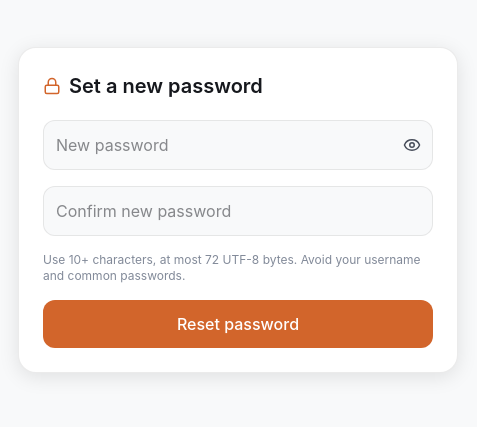
Test case: password recovery UI › shows the backend password policy error
The image size is (477, 427).
Type "short" into the password field with placeholder "New password" at (238, 145), box [43,120,433,170]
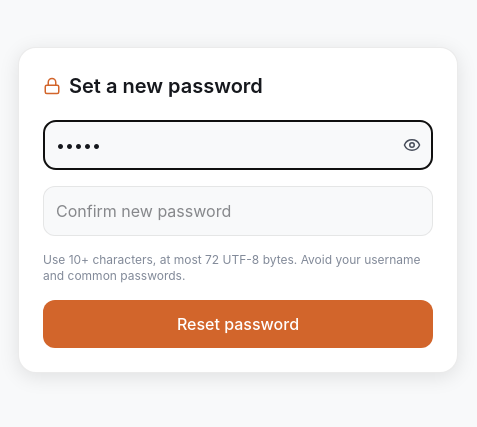
Type "short" into the password field with placeholder "Confirm new password" at (238, 211), box [43,186,433,236]
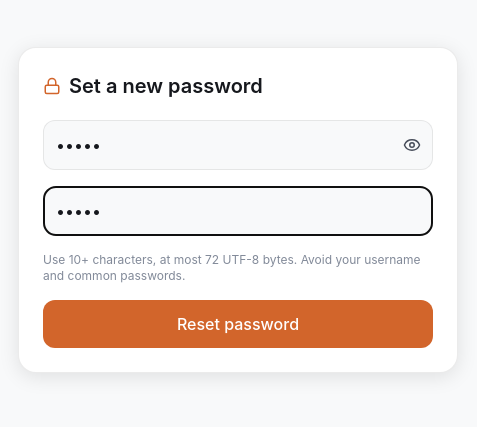
Click the button "Reset password" at (238, 324), box [43,300,433,348]
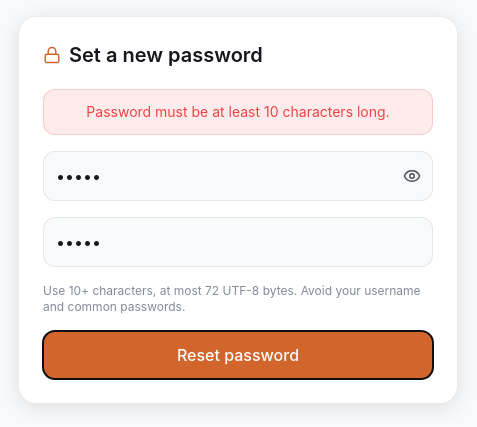
Now the text "Password must be at least 10 characters long." is shown, box [43,89,433,135]
